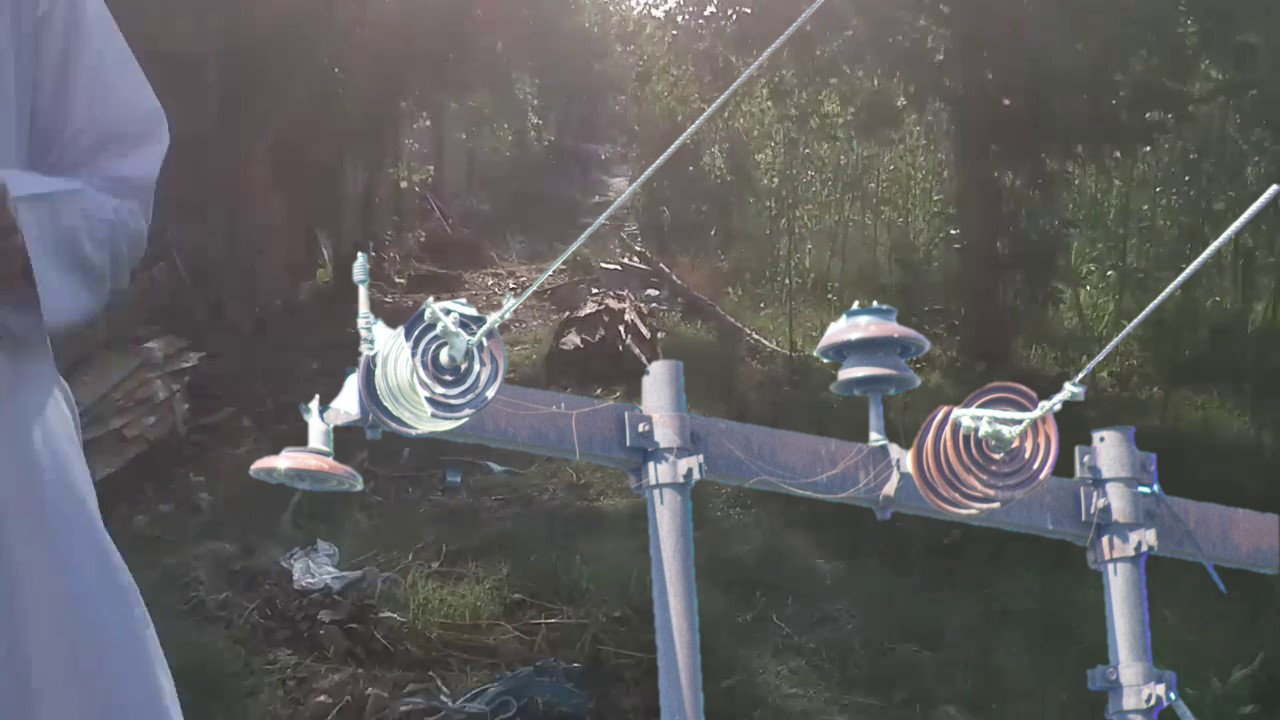defect_disc: (399, 299, 512, 426)
insulator_disc: (944, 376, 1060, 504), (241, 438, 369, 506)
